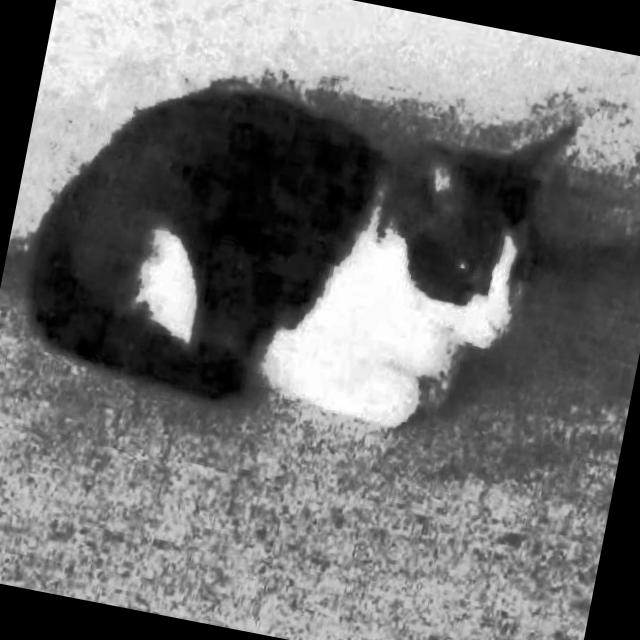Cat: (8, 7, 590, 475)
